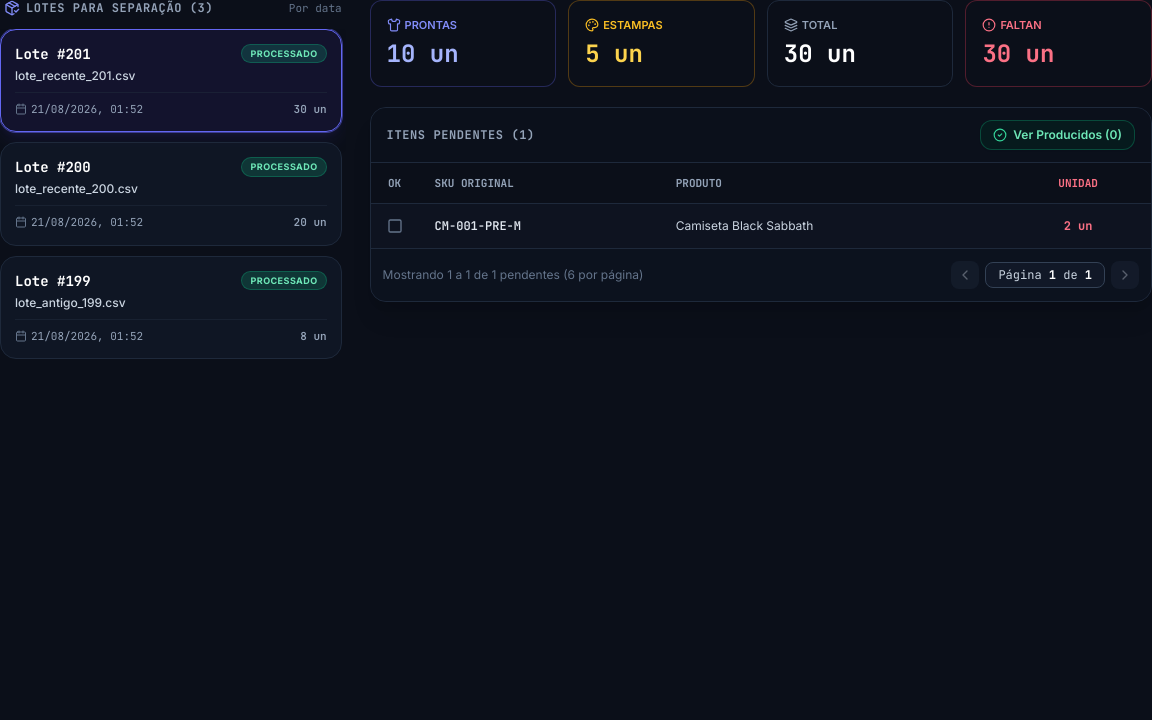
Role-Based Orders & Notifications Tests › Separacao / Geral Role view automatically renders clean Master-Detail layout with real-time picking persistence and produced modal
Expected: the heading "Lotes para Separação (3)" is shown, [4,0,213,16]
Expected: the text "lote_recente_201.csv" is shown, [15,68,136,82]
Click the button named "Marcar item CM-001-PRE-M como produzido" at (395, 226), box [383,214,407,238]
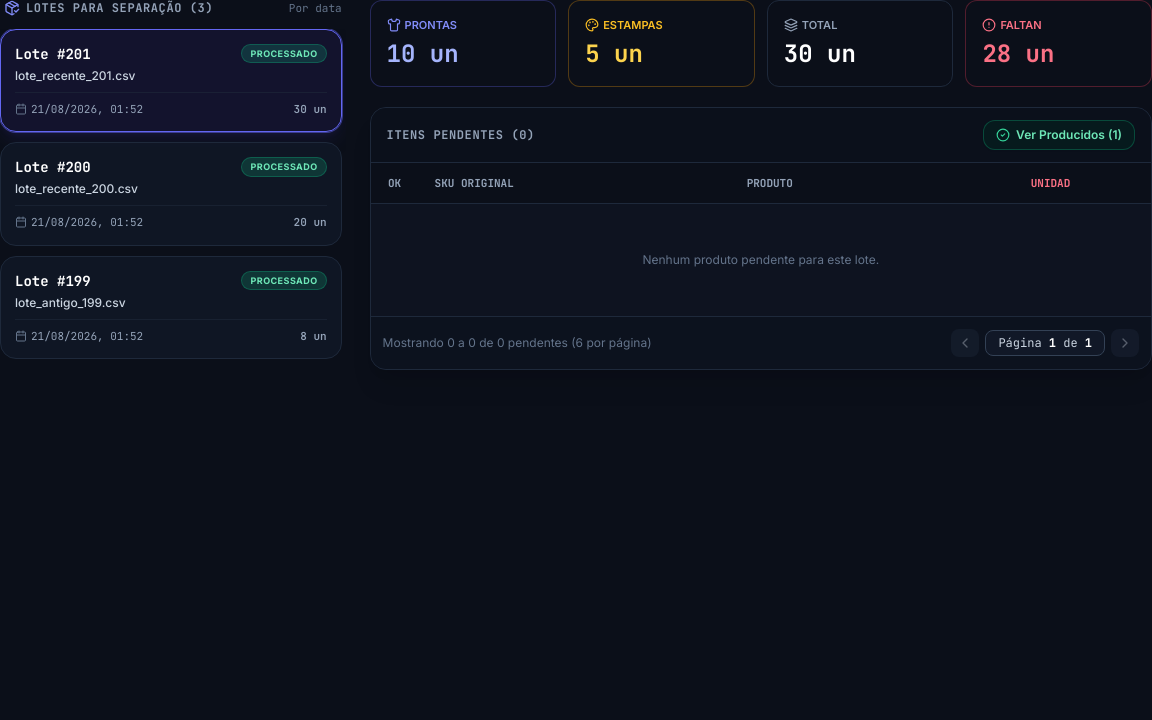
Now the text "28 un" is shown, box [982,38,1054,68]
Now the button "Ver Producidos (1)" is shown
Now the text "Camiseta Black Sabbath" is gone
Open Modal Itens Producidos
Click the button "Ver Producidos (1)" at (1059, 134), box [983,120,1135,150]
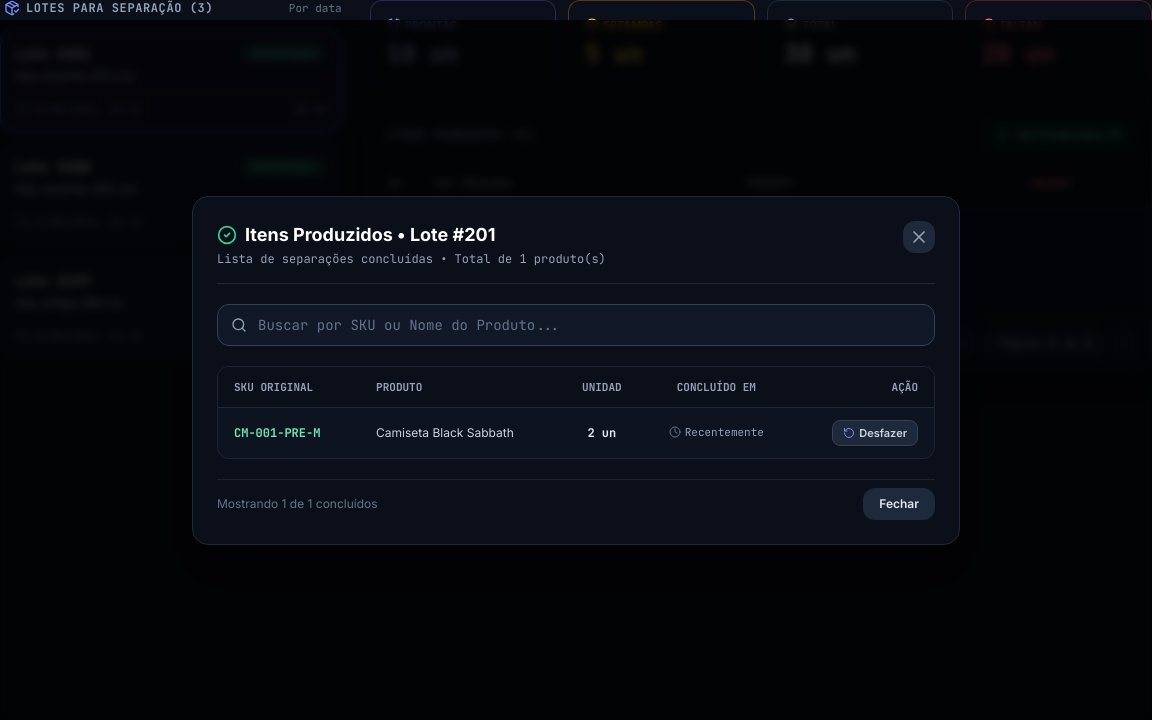
Now the heading "Itens Produzidos • Lote #201" is shown, box [217,224,495,244]
Now the text "CM-001-PRE-M" is shown, box [218,407,360,458]
Close modal
Click the button named "Fechar modal de produzidos" at (919, 236), box [903,220,935,252]
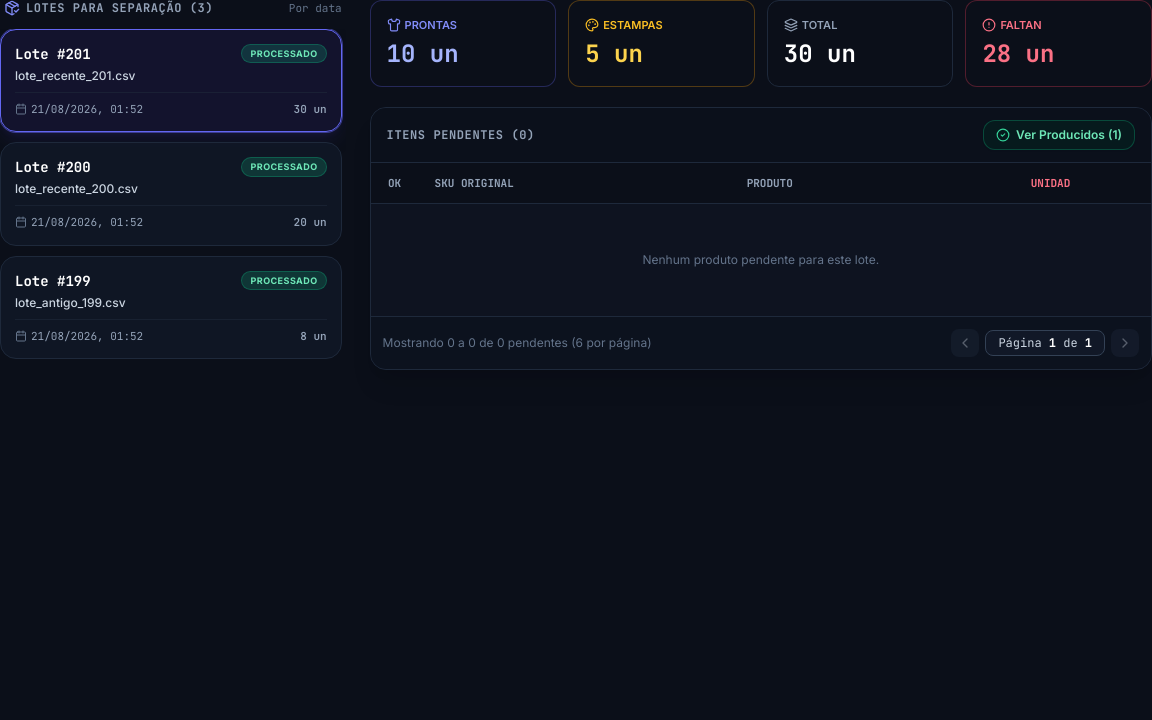
Switch active lote in sidebar to #200
Click the text "lote_recente_200.csv" at (76, 188), box [15,181,138,196]
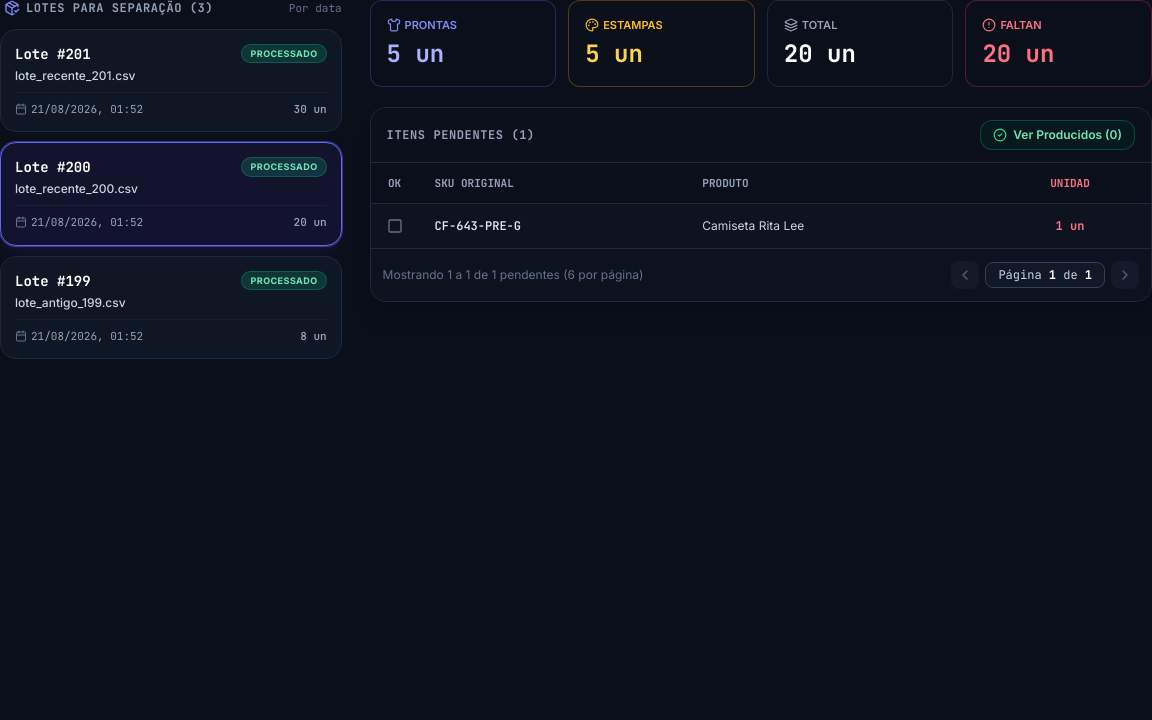
Now the text "CF-643-PRE-G" is shown, box [419,203,686,248]
Now the text "Camiseta Rita Lee" is shown, box [686,203,989,248]
